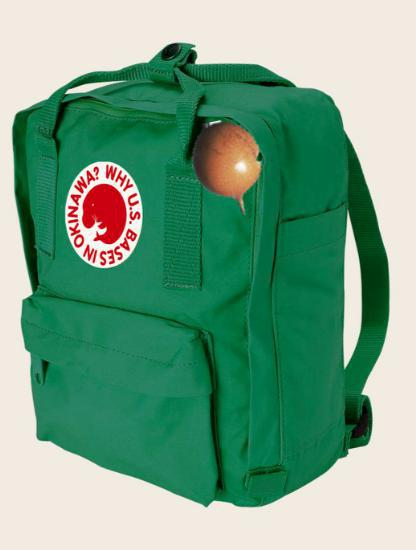Granadilla: (180, 120, 278, 218)
